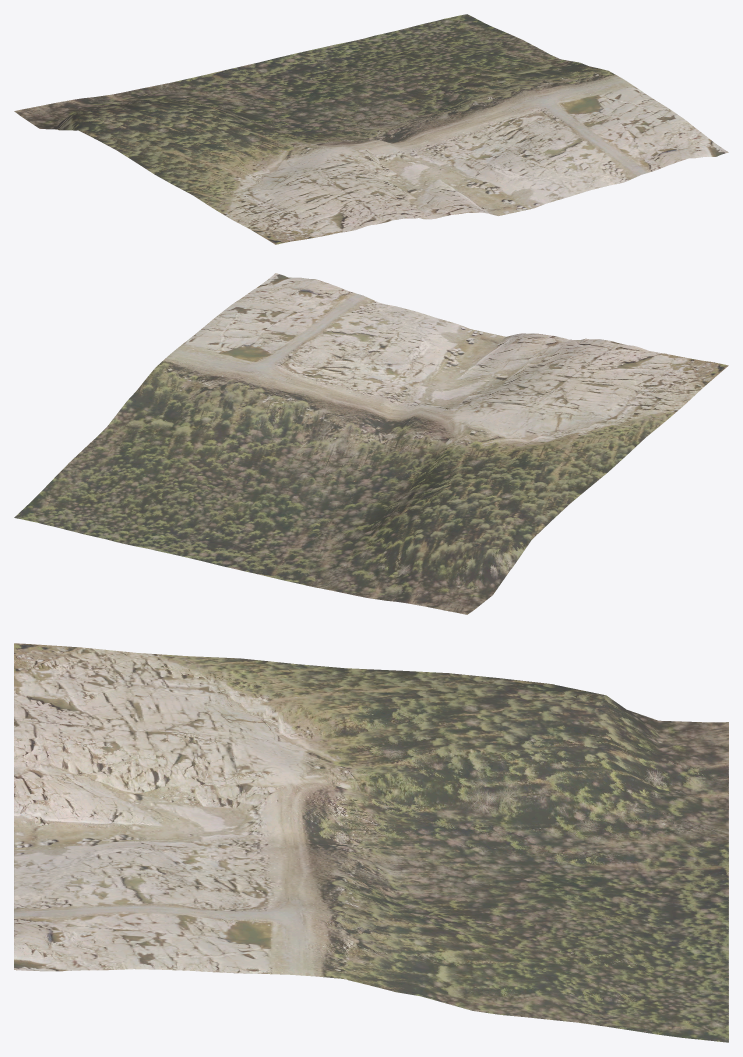
Rendered from CM_Terrain_24493530_6815084.fbx.
3 views of the same model, one above another, from view 1: azimuth 30°, elevation 25°; view 2: azimuth 150°, elevation 25°; view 3: azimuth 270°, elevation 25° (orthographic). The views are drawn at different scales.
Visible parts, largest first — view 1: CM_Terrain_24493530_6815084_LOD0; view 2: CM_Terrain_24493530_6815084_LOD0; view 3: CM_Terrain_24493530_6815084_LOD0.
Boxes of the visible parts, x1,y1,x2,y2 form: CM_Terrain_24493530_6815084_LOD0: (14, 14, 728, 244); CM_Terrain_24493530_6815084_LOD0: (14, 273, 728, 614); CM_Terrain_24493530_6815084_LOD0: (14, 643, 728, 1042).
Size of what is drawn, in the model's own units: 205 by 30.79 by 205.
